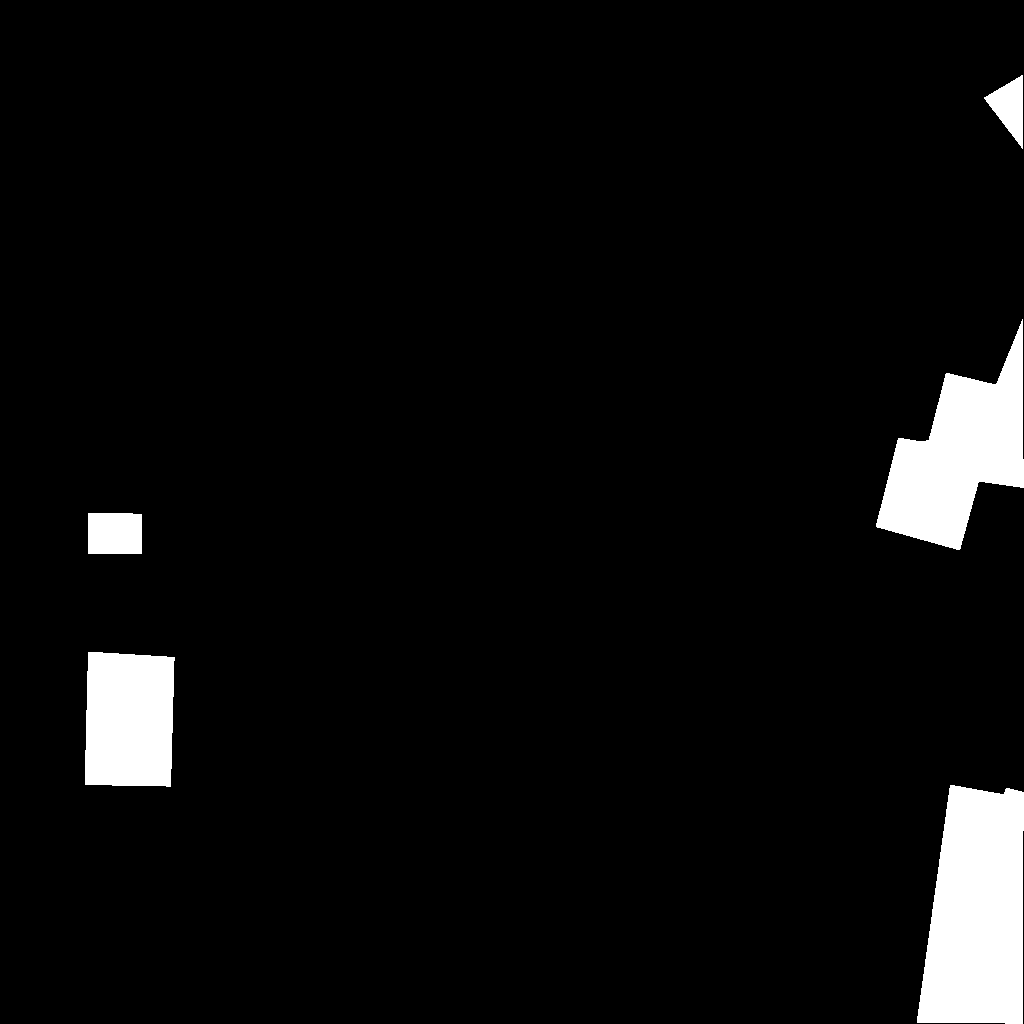building: (876, 318, 1024, 551), (917, 785, 1024, 1024), (85, 652, 175, 787), (984, 75, 1024, 150), (88, 513, 143, 554)
